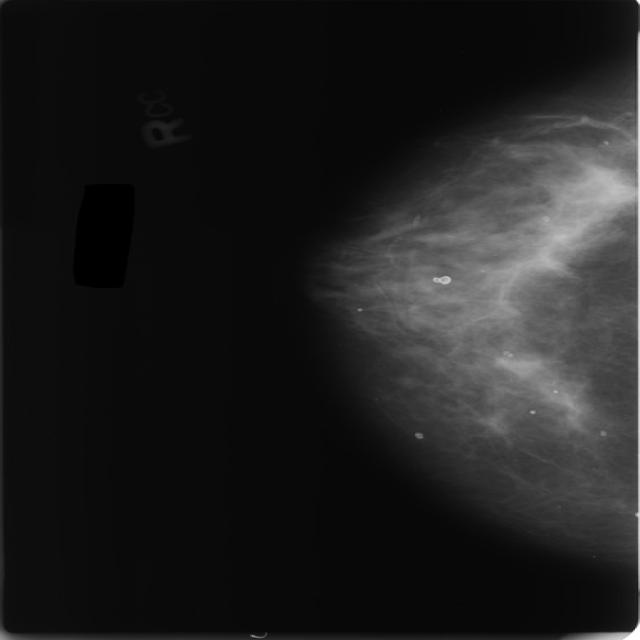tumour: (592, 179, 638, 206)
